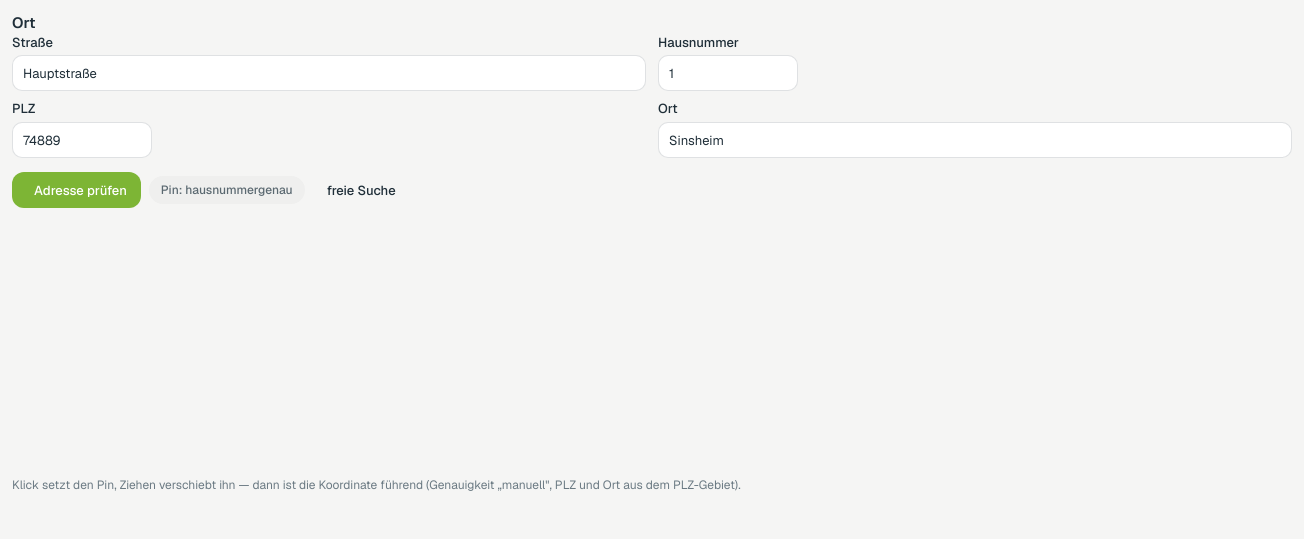
Test: AdresseBlock: Pin-Pille (E77 R3) › 3 „Adresse prüfen“ setzt die Stufe aus dem Ergebnis
Clear the field named "hausnummer": (728,73) [658,55,798,91]
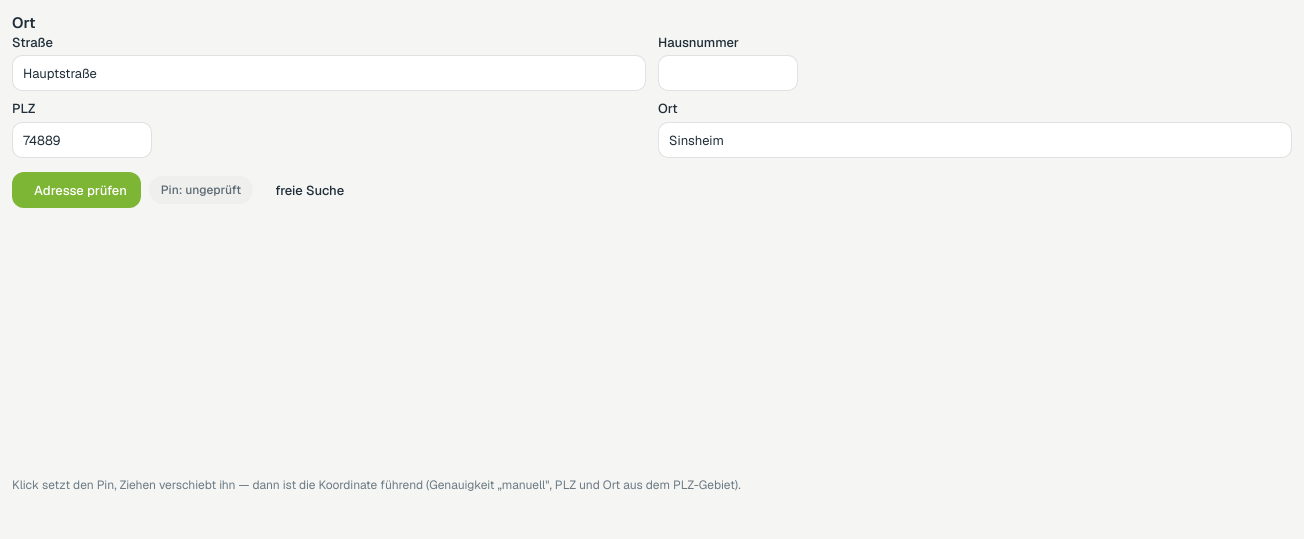
Expected: the text with test id "adr-pille" reads "Pin: ungeprüft", [149,176,253,204]
Click the button "Adresse prüfen": (76,190) [12,172,141,208]
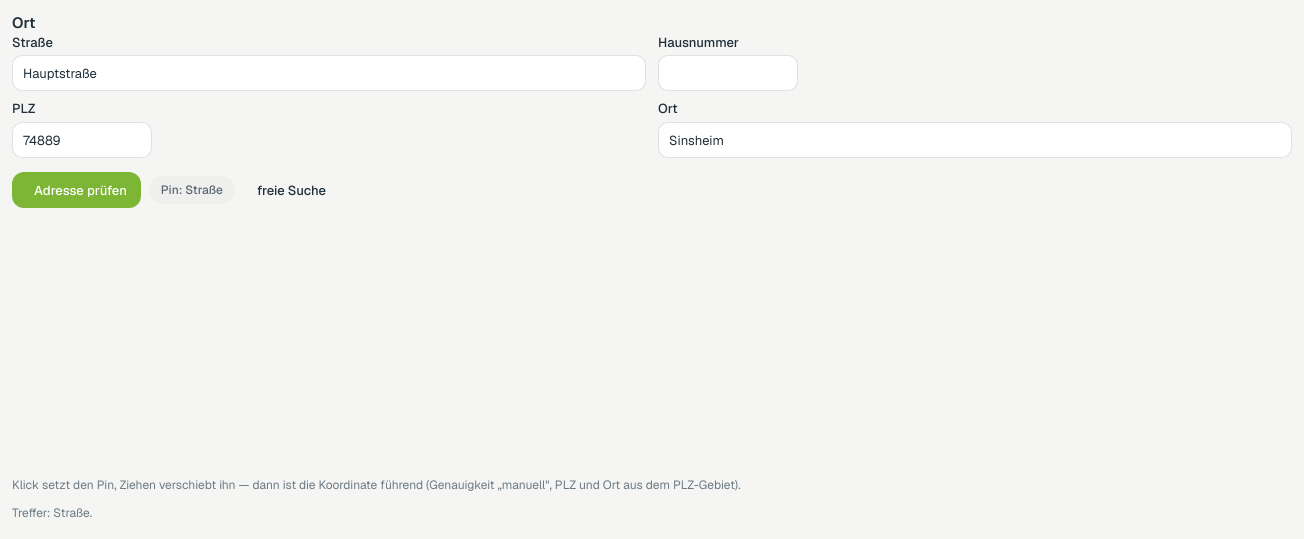
Expected: the text with test id "adr-pille" reads "Pin: Straße", [149,176,235,204]
